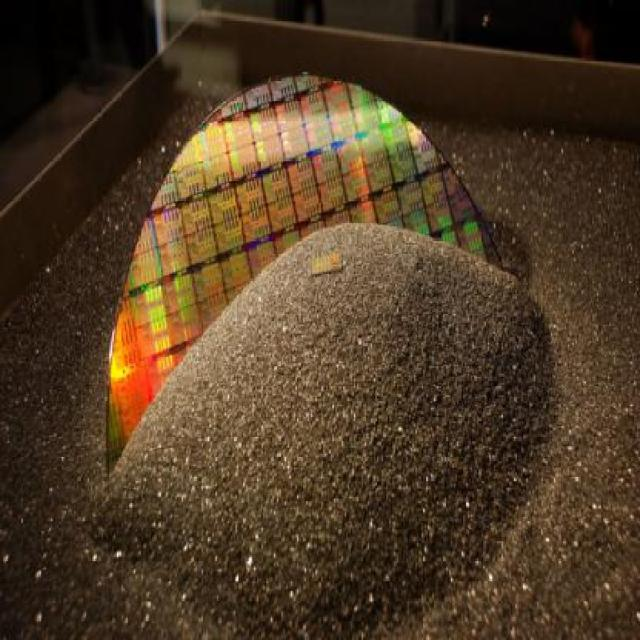Wafer: (106, 74, 518, 463)
